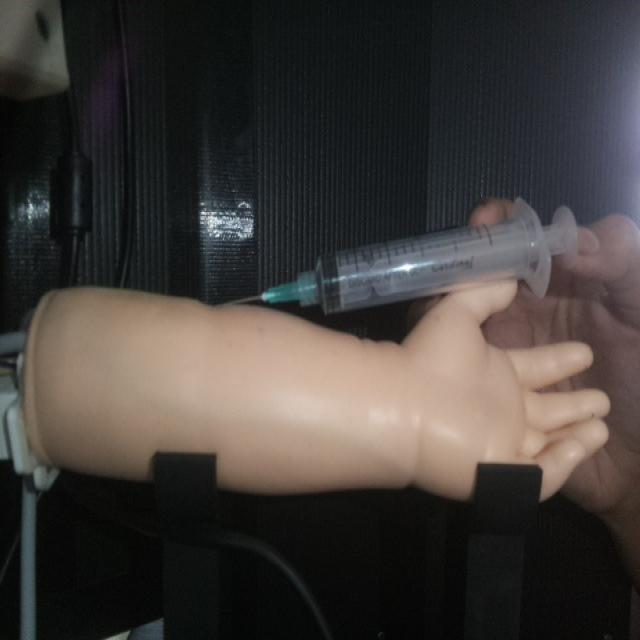Outside: (219, 194, 580, 318)
